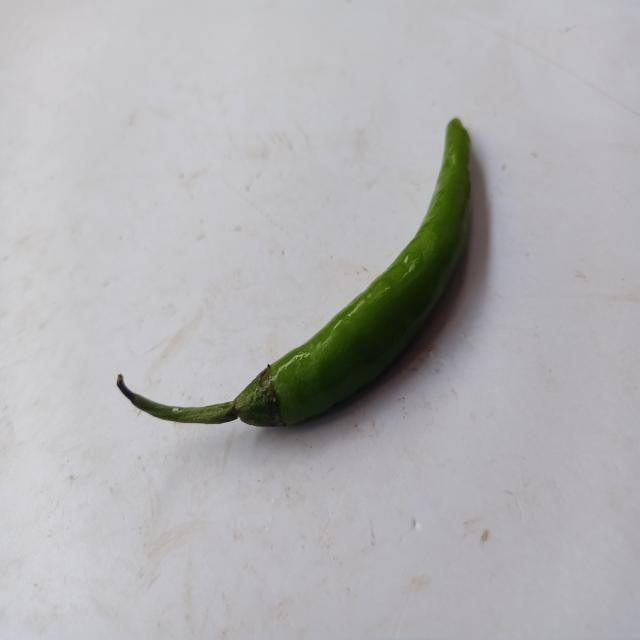Green Chilly: (116, 118, 471, 427)
